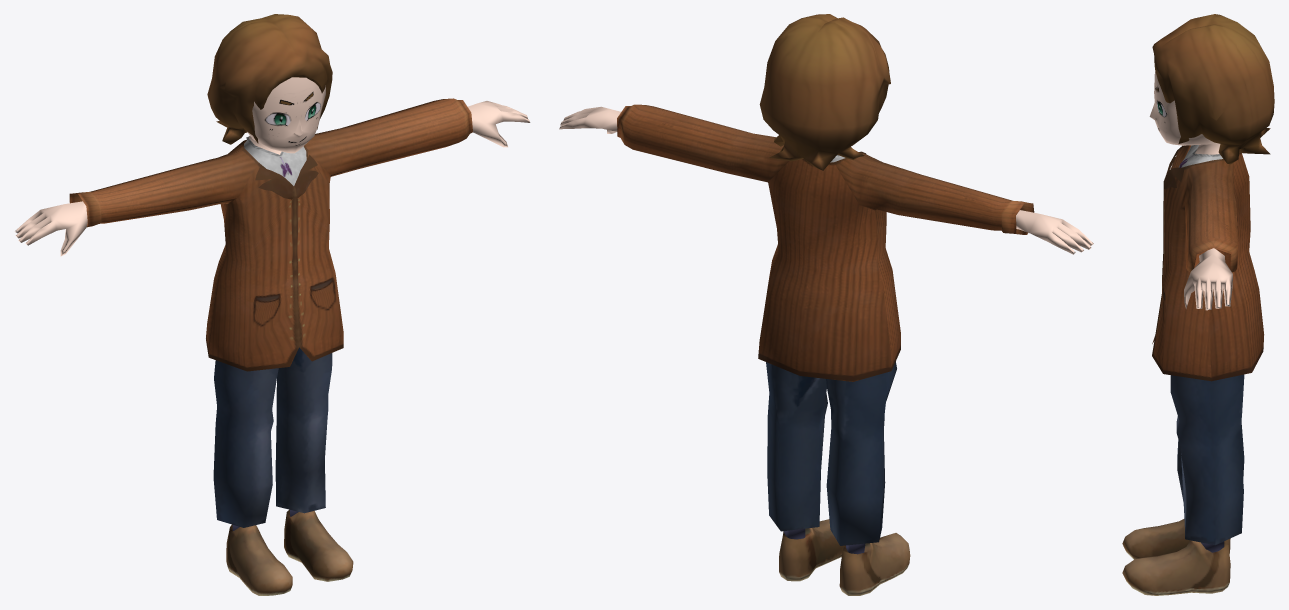
File: stree_mdl.fbx
3 views of the same model, side by side, from view 1: azimuth 30°, elevation 25°; view 2: azimuth 150°, elevation 25°; view 3: azimuth 270°, elevation 25° (orthographic). The views are drawn at different scales.
Visible parts, largest first — view 1: stree_mdl; view 2: stree_mdl; view 3: stree_mdl.
Part boxes in pixels (x1,y1,x2,y2): stree_mdl: (14, 14, 530, 595); stree_mdl: (559, 14, 1093, 595); stree_mdl: (1122, 14, 1274, 595).
Bounding box in the file's own units: 8.03 × 8.2 × 2.06.
Materials: 2 (2 with a texture image).
